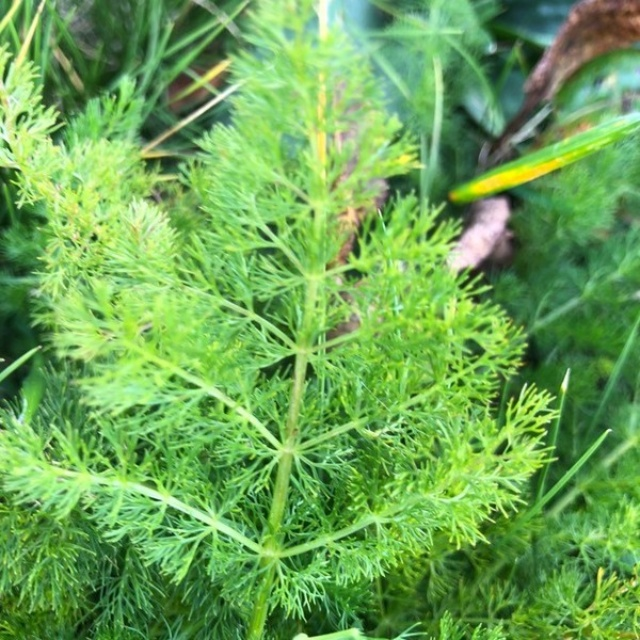obstacle: (33, 34, 546, 607)
